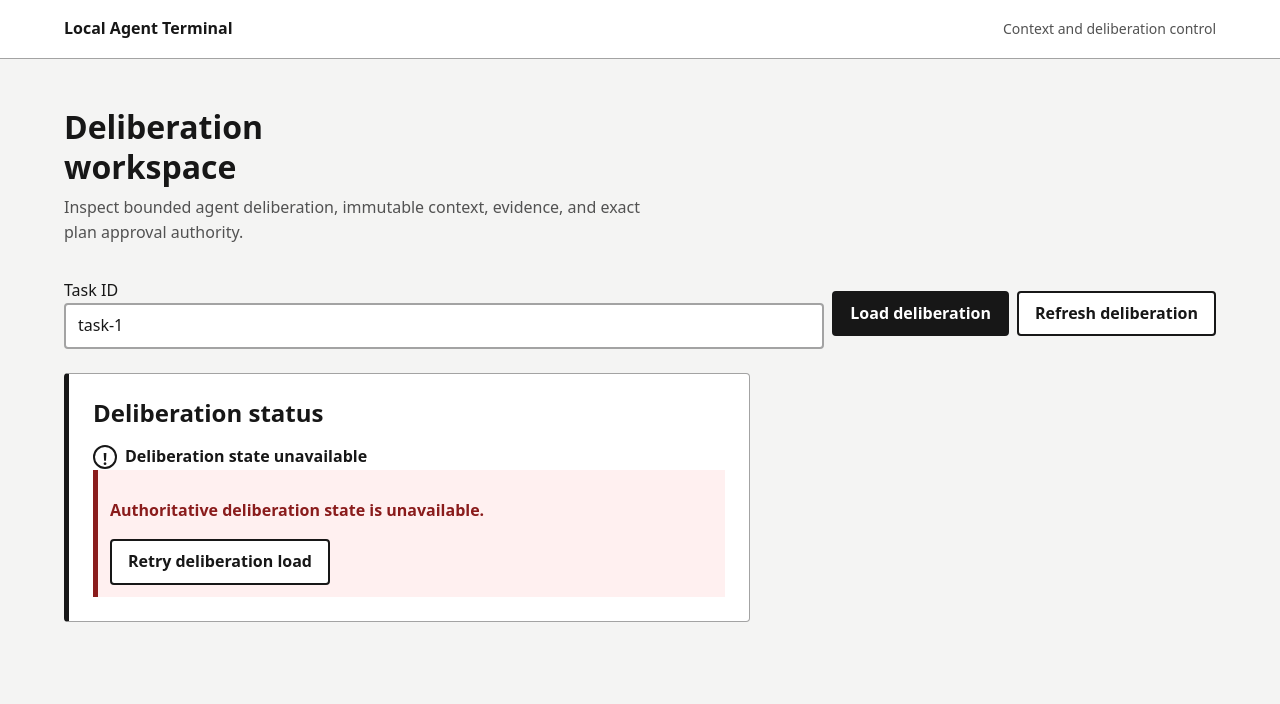
Scenario: DeliberationScreen › offers a recoverable retry after authoritative state is unavailable
expect the message "Authoritative deliberation state is unavailable. Retry deliberation load" is shown: met, box x1=93 y1=470 x2=725 y2=597
Click the button "Retry deliberation load". click: (220, 562)
box: x1=110 y1=539 x2=330 y2=585
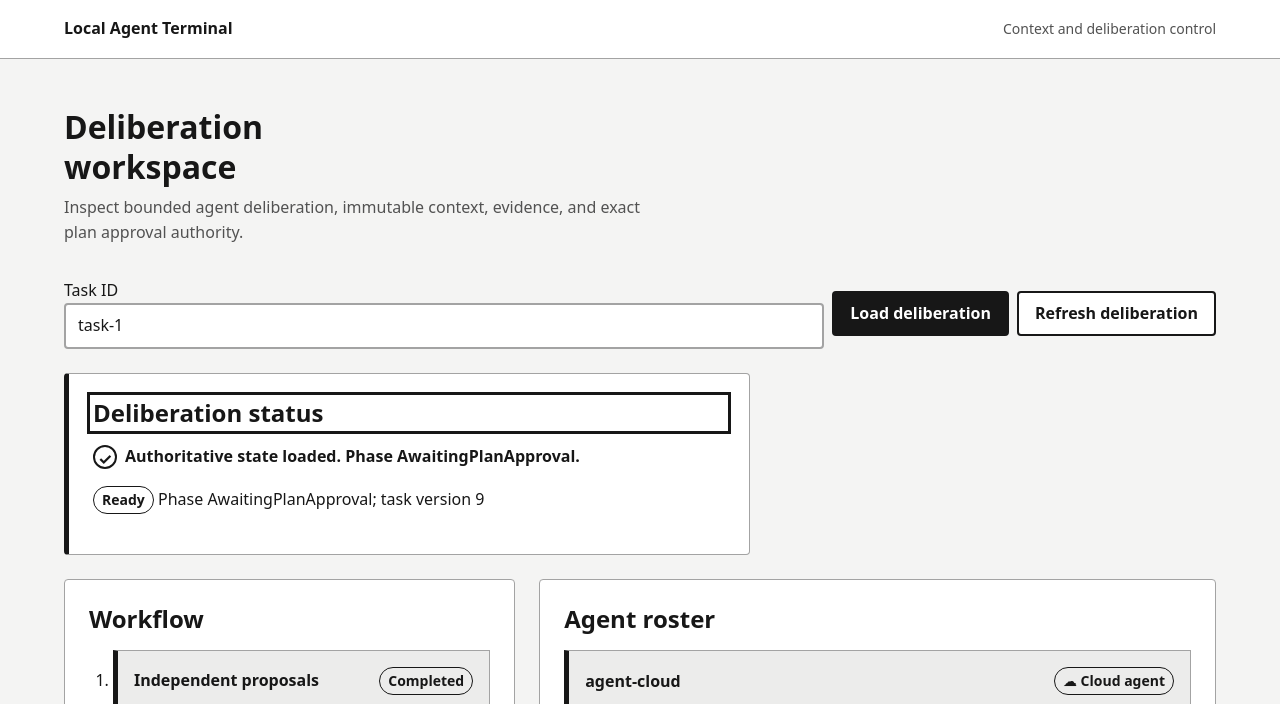
expect the text "✓ Authoritative state loaded. Phase AwaitingPlanApproval." is shown: met, box x1=93 y1=445 x2=580 y2=469
